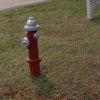Hydrant: (16, 9, 53, 77)
